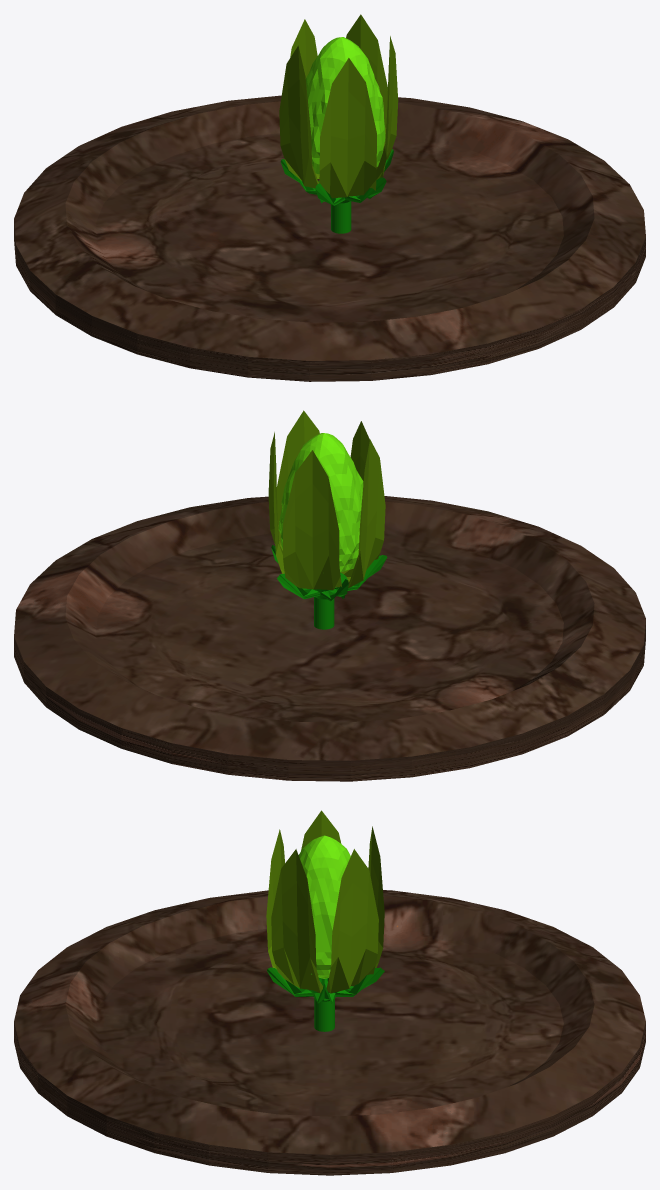
File: corn1.fbx
The picture shows the model from 3 angles, top to bottom: view 1: azimuth 30°, elevation 25°; view 2: azimuth 150°, elevation 25°; view 3: azimuth 270°, elevation 25°; orthographic projection.
Parts seen in each view (by area): view 1: Cylinder.004; view 2: Cylinder.004; view 3: Cylinder.004.
Part boxes in pixels (x1,y1,x2,y2): Cylinder.004: (14, 14, 645, 381); Cylinder.004: (14, 410, 645, 781); Cylinder.004: (14, 810, 645, 1175).
Bounding box in the file's own units: 20 × 9.52 × 20.
